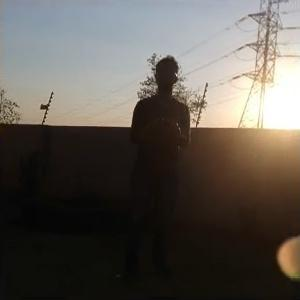follow: (110, 50, 192, 285)
